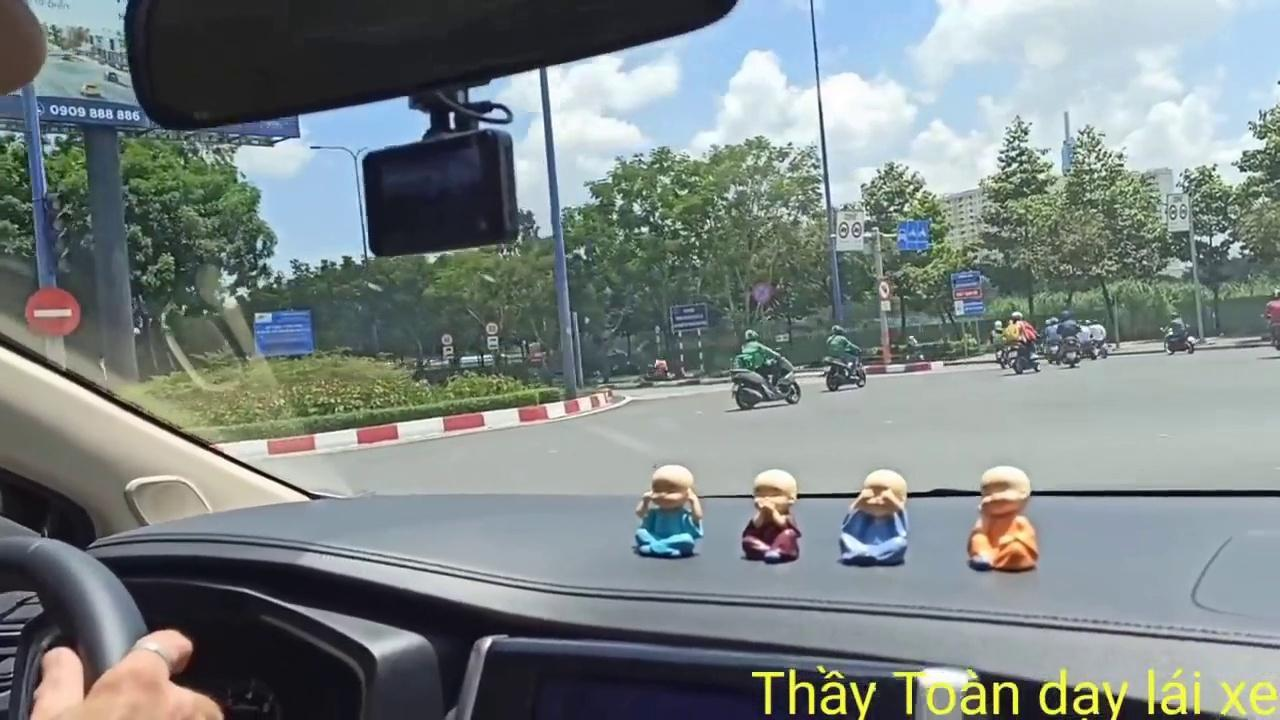Biển phụ: (443, 345, 456, 360), (488, 336, 499, 351)
Cấm cac phương tiện hoạt động trong khung giờ cố định: (835, 209, 865, 252)
Cấm dừng - Cấm đỗ: (752, 281, 774, 304)
Cấm xe máy: (876, 279, 892, 301)
Cấm đi ngược chiều: (26, 284, 82, 337)
Khác: (250, 308, 316, 356), (951, 271, 985, 317), (670, 302, 709, 332)
Làn đường cho từng xe: (896, 218, 929, 250)
